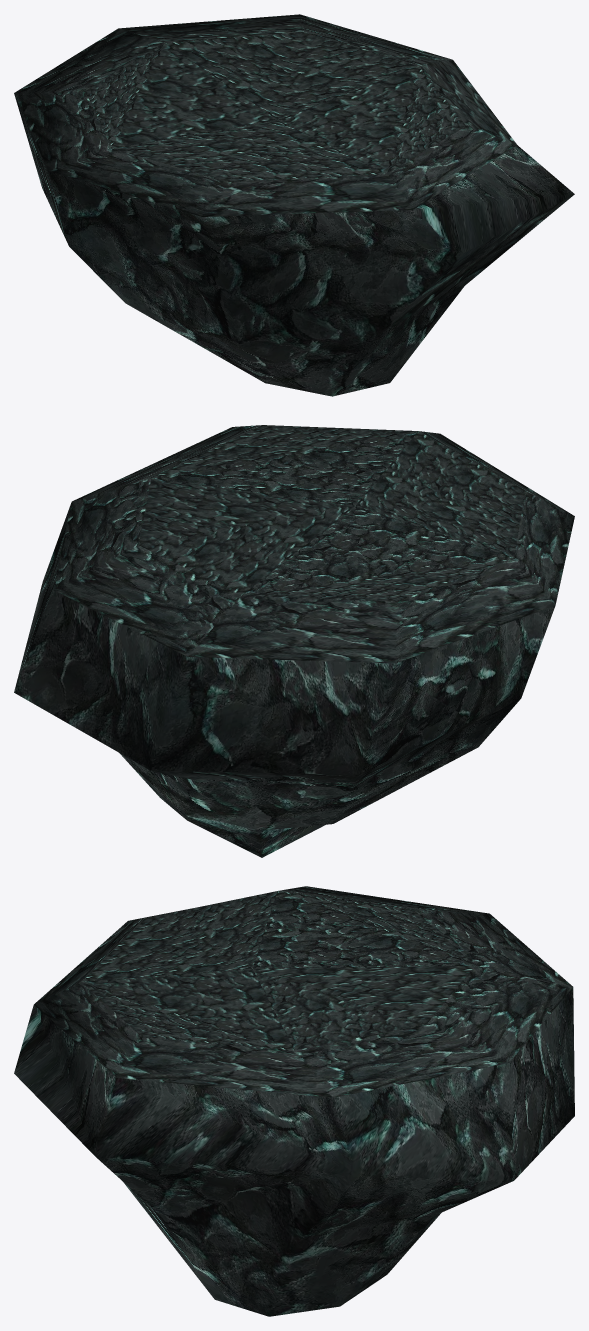
Rendered from rock-03.glb.
The picture shows the model from 3 angles, top to bottom: view 1: azimuth 30°, elevation 25°; view 2: azimuth 150°, elevation 25°; view 3: azimuth 270°, elevation 25°; orthographic projection. The views are drawn at different scales.
Parts seen in each view (by area): view 1: Rock_03; view 2: Rock_03; view 3: Rock_03.
Part boxes in pixels (x1=…): Rock_03: x1=14, y1=14, x2=574, y2=396; Rock_03: x1=14, y1=425, x2=574, y2=857; Rock_03: x1=14, y1=886, x2=574, y2=1316.
Bounding box in the file's own units: 8.06 × 5.37 × 8.73.
1 material, 1 textured.
